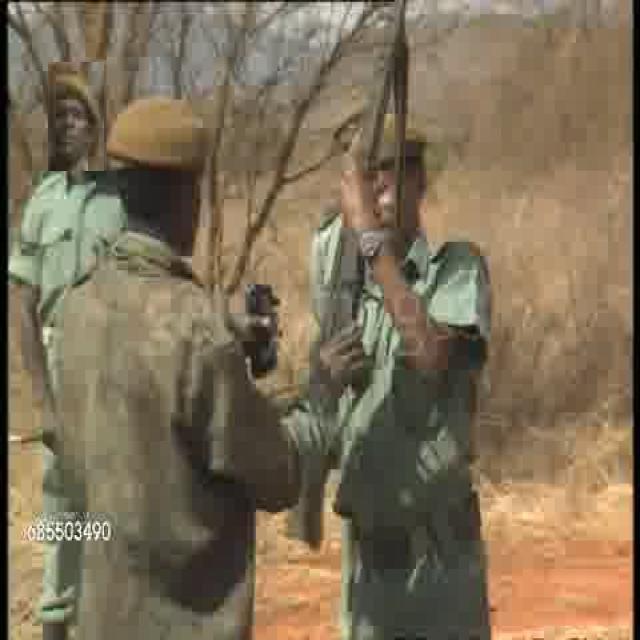poacher: (85, 87, 284, 617), (328, 107, 493, 617), (48, 62, 104, 171)
weapon: (338, 2, 406, 382)
